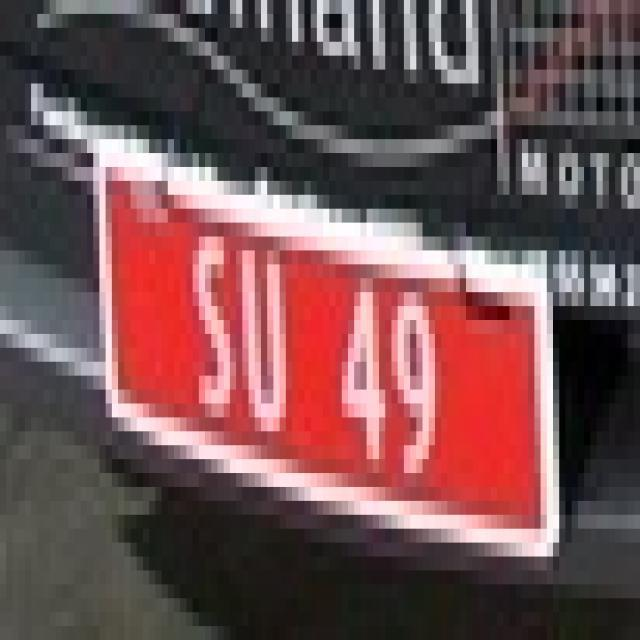licenseplate: (82, 95, 586, 600)
